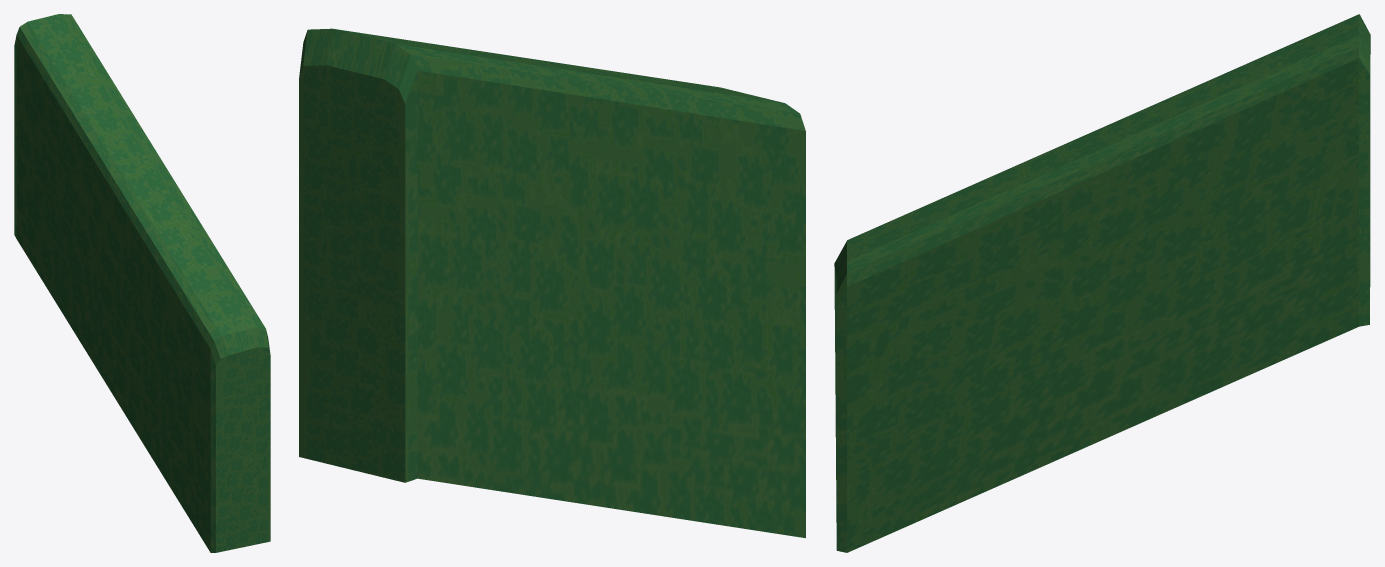
Rendered from junglewalltodown.gltf.
The picture shows the model from 3 angles, left to right: view 1: azimuth 30°, elevation 25°; view 2: azimuth 150°, elevation 25°; view 3: azimuth 270°, elevation 25°; orthographic projection. The views are drawn at different scales.
Parts seen in each view (by area): view 1: Cube.001; view 2: Cube.001; view 3: Cube.001.
Boxes of the visible parts, <box> form: Cube.001: <box>14,14,270,552</box>; Cube.001: <box>299,28,805,538</box>; Cube.001: <box>834,14,1370,552</box>.
Size of the model in its own units: 10.26 by 66.31 by 63.32.
Materials: 1 (1 with a texture image).
